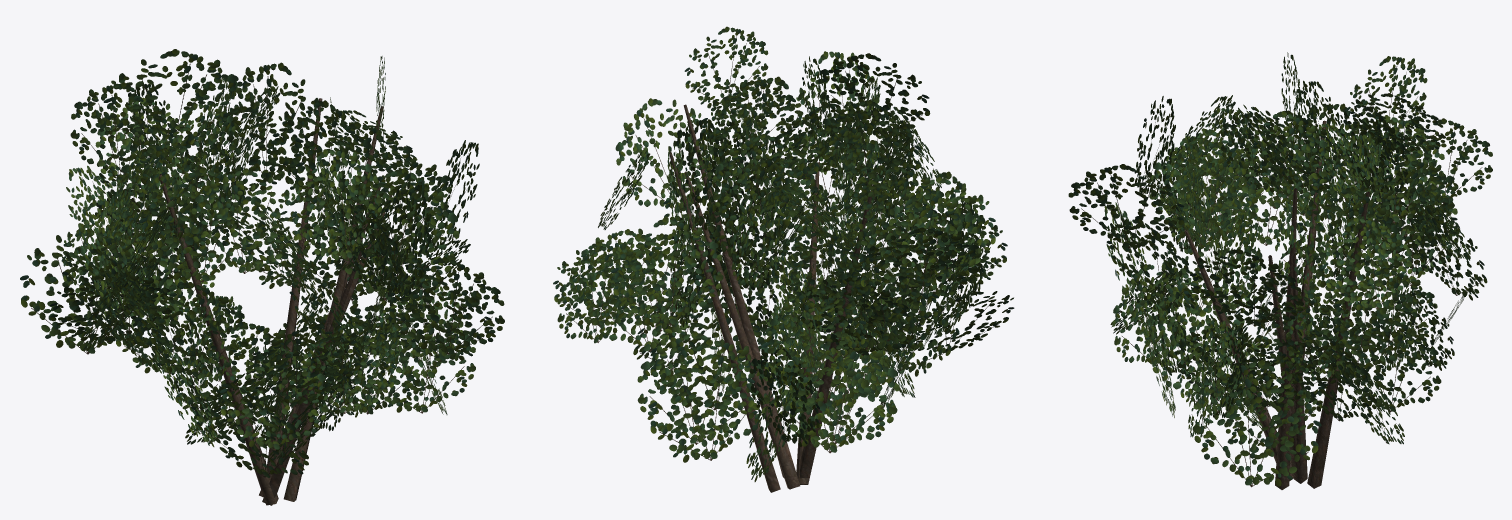
File: tpl_rec_kade_meadow_hawthorn_hi.glb
The picture shows the model from 3 angles, left to right: view 1: azimuth 30°, elevation 25°; view 2: azimuth 150°, elevation 25°; view 3: azimuth 270°, elevation 25°; orthographic projection. The views are drawn at different scales.
Parts seen in each view (by area): view 1: tpl_rec_kade_meadow_hawthorn_hi; view 2: tpl_rec_kade_meadow_hawthorn_hi; view 3: tpl_rec_kade_meadow_hawthorn_hi.
Boxes of the visible parts, x1=… form: tpl_rec_kade_meadow_hawthorn_hi: x1=20, y1=49, x2=504, y2=505; tpl_rec_kade_meadow_hawthorn_hi: x1=553, y1=26, x2=1014, y2=492; tpl_rec_kade_meadow_hawthorn_hi: x1=1068, y1=52, x2=1492, y2=489.
Size of the model in its own units: 4.07 by 3.85 by 3.67.
Materials: 2 (2 with a texture image).
